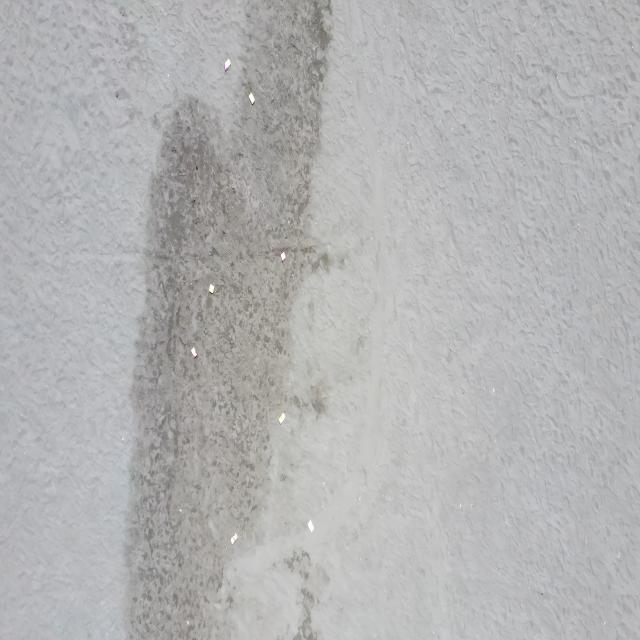retort-pouch: (223, 56, 231, 74), (190, 344, 198, 360), (278, 410, 286, 426), (248, 90, 256, 106), (307, 519, 315, 534), (280, 250, 288, 264), (230, 532, 238, 546), (208, 282, 215, 296)
